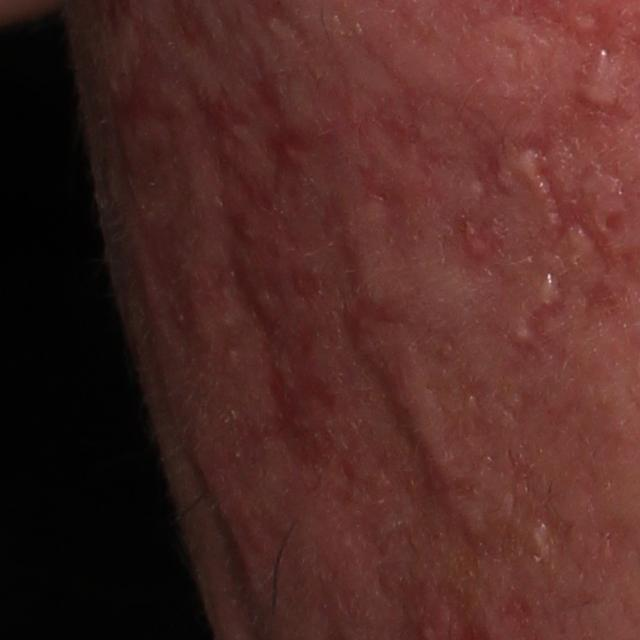atrophic_scar: (317, 78, 519, 273), (320, 403, 501, 599), (514, 131, 616, 275), (237, 361, 340, 477), (323, 202, 397, 354), (224, 208, 292, 359), (250, 71, 311, 201), (507, 275, 568, 365)
hypertrophic_scar: (356, 324, 460, 487), (527, 521, 557, 561), (509, 149, 543, 183), (532, 272, 555, 309)
